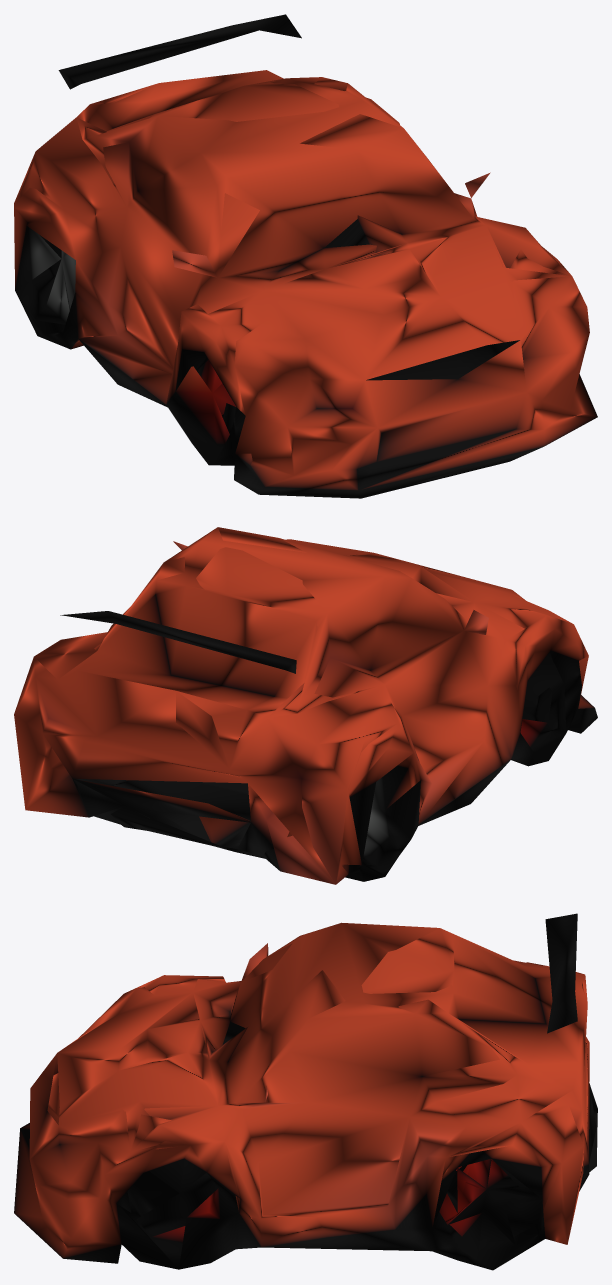
The model's file is gen3d-race-car-lod1.glb.
3 views of the same model, one above another, from view 1: azimuth 30°, elevation 25°; view 2: azimuth 150°, elevation 25°; view 3: azimuth 270°, elevation 25° (orthographic). The views are drawn at different scales.
Visible parts, largest first — view 1: part_0; view 2: part_0; view 3: part_0.
Part boxes in pixels (x1,y1,x2,y2): part_0: (14,14,597,498); part_0: (14,527,597,884); part_0: (14,913,597,1270).
Size of the model in its own units: 1.52 by 0.9573 by 2.23.
